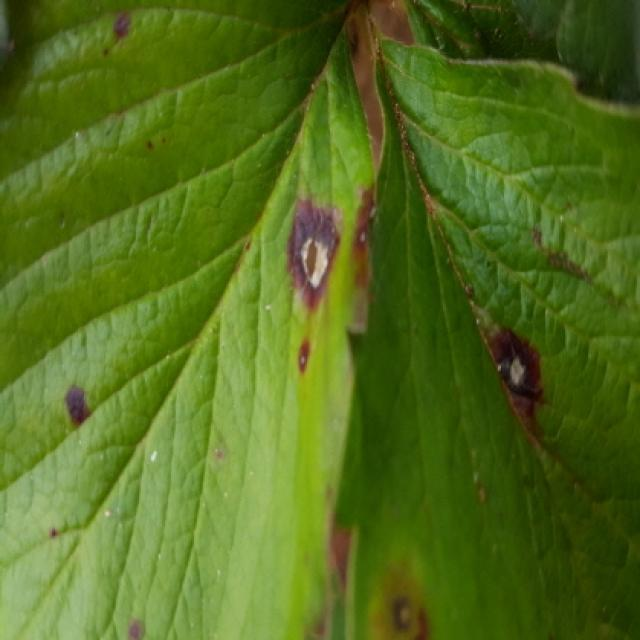Leaf Spot: (0, 0, 376, 638), (334, 31, 638, 638)
